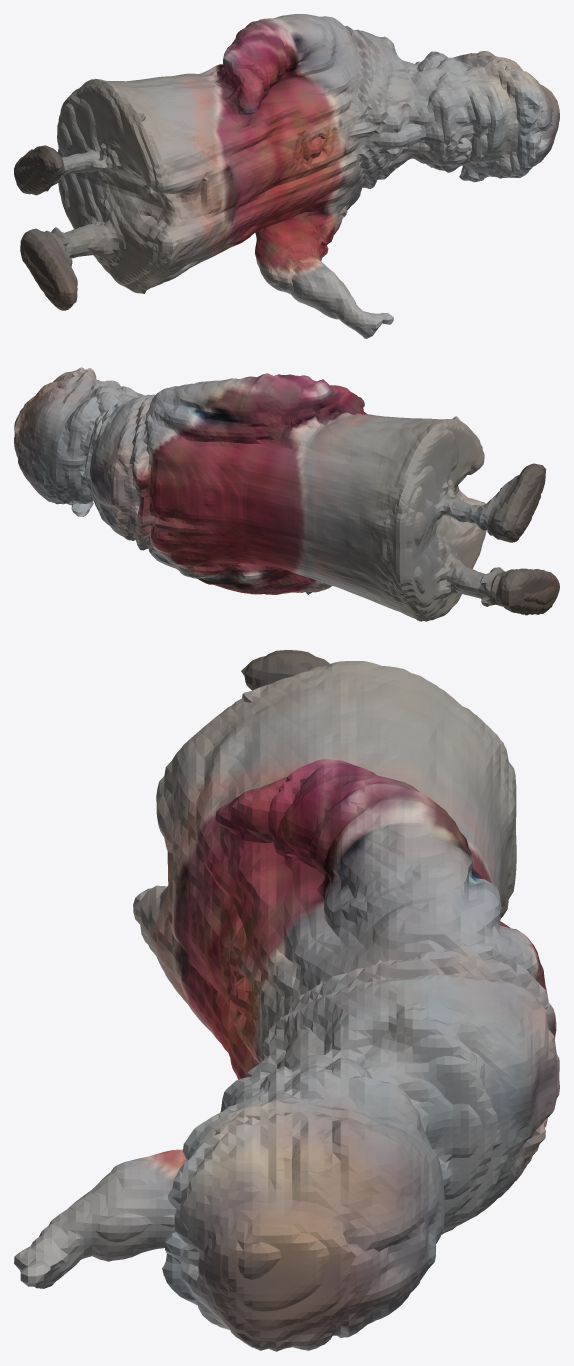
Rendered from mascot_triposr_raw.glb.
3 renders of one model, top to bottom at view 1: azimuth 30°, elevation 25°; view 2: azimuth 150°, elevation 25°; view 3: azimuth 270°, elevation 25°, orthographic. The views are drawn at different scales.
Visible parts, largest first — view 1: world; view 2: world; view 3: world.
Boxes of the visible parts, x1,y1,x2,y2 form: world: (14,14,559,338); world: (14,367,559,621); world: (14,650,559,1351).
Bounding box in the file's own units: 0.9728 × 0.4616 × 0.465.
